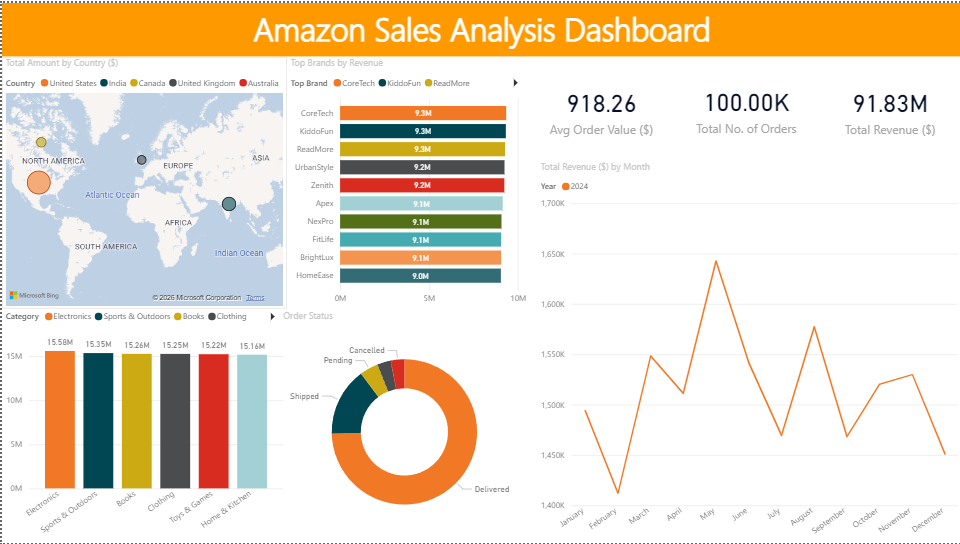

The dashboard page shown, as its layout file describes it:
{"tool":"powerbi","page":{"name":"Page 1","canvas":[1280,720],"ordinal":0},"visuals":[{"type":"columnChart","title":"Total Revenue by Categories","fields":{"Y":["Sum(Amazon.TotalAmount)"],"Category":["Amazon.Category"],"Series":["Amazon.Category"]},"box":[0,382.7,380.3,337.5],"z":0},{"type":"card","fields":{"Values":["Sum(Amazon.TotalAmount)"]},"box":[1088.2,72.7,192.1,138.6],"z":1000},{"type":"card","fields":{"Values":["Count(Amazon.OrderID)"]},"box":[896.1,71.4,192.1,138.6],"z":2000},{"type":"lineChart","title":"Total Revenue ($) by Month","fields":{"Y":["Sum(Amazon.TotalAmount)"],"Category":["Amazon.OrderDate.Variation.Date Hierarchy.Month"],"Series":["Amazon.OrderDate.Variation.Date Hierarchy.Year"]},"box":[713.6,209.9,566.7,510.5],"z":3000},{"type":"map","title":"Total Amount by Country ($)","fields":{"Category":["Amazon.Country"],"Series":["Amazon.Country"],"Size":["Sum(Amazon.TotalAmount)"]},"box":[0,71.4,380.1,337.6],"z":4000},{"type":"donutChart","title":"Order Status","fields":{"Category":["Amazon.OrderStatus"],"Y":["CountNonNull(Amazon.OrderStatus)"]},"box":[370.5,408.9,333.4,311.5],"z":5000},{"type":"textbox","box":[0,0,1280.3,71.4],"z":6000},{"type":"card","fields":{"Values":["Amazon.Avg Order Value"]},"box":[703.9,72.7,192.1,138.6],"z":7000},{"type":"barChart","title":"Top Brands by Revenue","fields":{"Category":["Amazon.Brand"],"Y":["Sum(Amazon.TotalAmount)"],"Series":["Amazon.Brand"]},"box":[380,71,324,338],"z":8000}]}

Visuals, with their boxes in screenshot pixels (x1, y1, x2, y2), scaled from the page's 1280x720 canvas onto the 960x544 screenshot:
"Total Revenue by Categories" columnChart: bbox(0, 289, 285, 543)
card - Sum(Amazon.TotalAmount): bbox(816, 55, 959, 160)
card - Count(Amazon.OrderID): bbox(672, 54, 816, 159)
"Total Revenue ($) by Month" lineChart: bbox(535, 159, 959, 543)
"Total Amount by Country ($)" map: bbox(0, 54, 285, 309)
"Order Status" donutChart: bbox(278, 309, 528, 543)
textbox: bbox(0, 0, 959, 54)
card - Amazon.Avg Order Value: bbox(528, 55, 672, 160)
"Top Brands by Revenue" barChart: bbox(285, 54, 528, 309)
